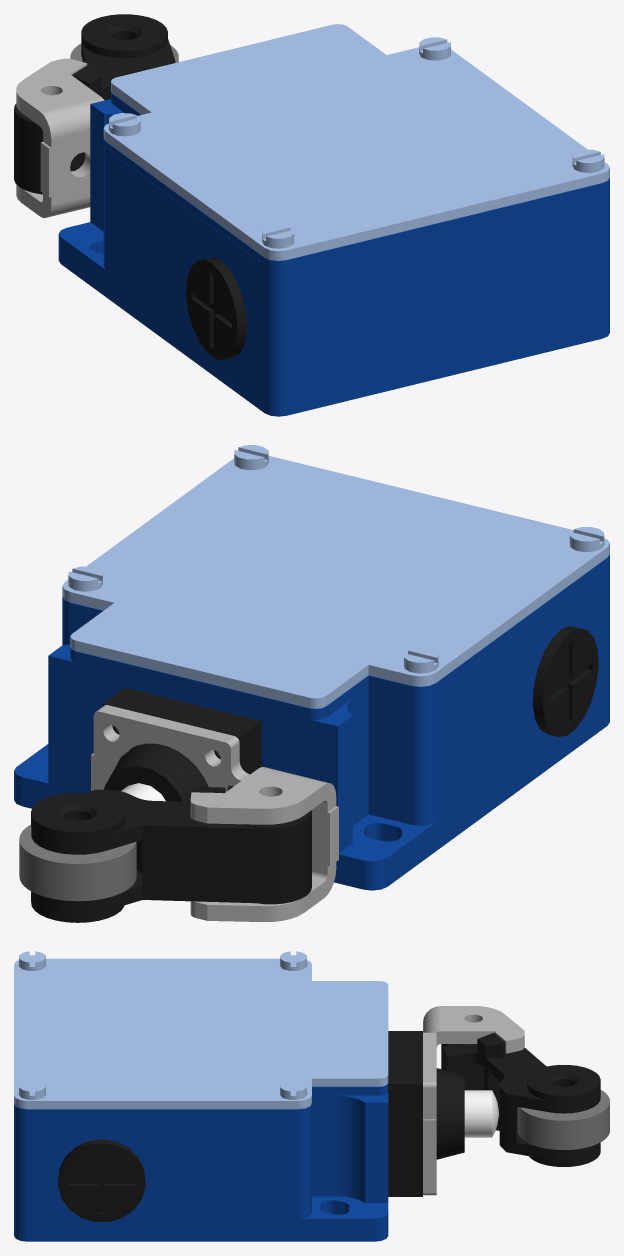
The model's file is leverLimitSwitch.fbx.
The picture shows the model from 3 angles, top to bottom: view 1: azimuth 30°, elevation 25°; view 2: azimuth 150°, elevation 25°; view 3: azimuth 270°, elevation 25°; orthographic projection. The views are drawn at different scales.
Parts seen in each view (by area): view 1: 솔리드1, 솔리드9, 솔리드10; view 2: 솔리드1, 솔리드10, 솔리드9, 솔리드5; view 3: 솔리드1, 솔리드10, 솔리드9, 솔리드5.
Boxes of the visible parts, x1,y1,x2,y2 form: 솔리드1: [58, 24, 609, 416]; 솔리드9: [16, 58, 104, 217]; 솔리드10: [14, 14, 175, 194]; 솔리드1: [14, 445, 609, 890]; 솔리드10: [31, 785, 311, 922]; 솔리드9: [91, 705, 338, 921]; 솔리드5: [19, 824, 136, 901]; 솔리드1: [14, 951, 498, 1241]; 솔리드10: [441, 1033, 600, 1166]; 솔리드9: [423, 1006, 524, 1195]; 솔리드5: [517, 1090, 609, 1149].
Bounding box in the file's own units: 3.03 × 1.4 × 5.08.
